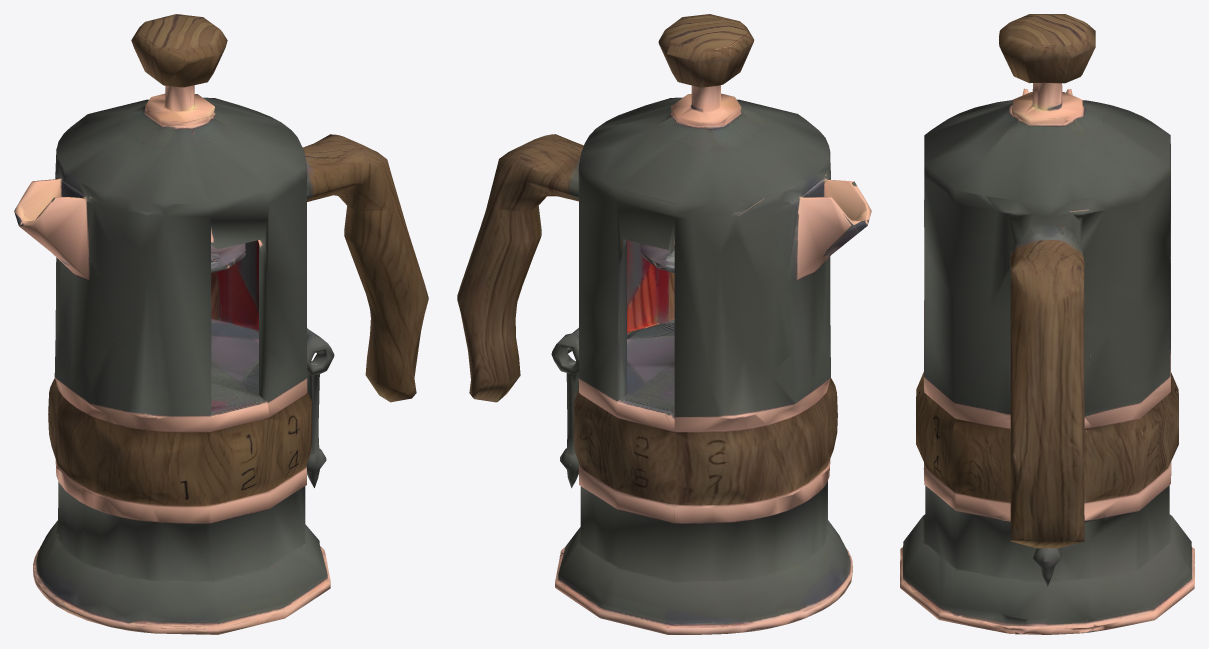
File: french_press.glb
3 views of the same model, side by side, from view 1: azimuth 30°, elevation 25°; view 2: azimuth 150°, elevation 25°; view 3: azimuth 270°, elevation 25° (orthographic).
Parts seen in each view (by area): view 1: Mesh1.0; view 2: Mesh1.0; view 3: Mesh1.0.
Part boxes in pixels (x1,y1,x2,y2): Mesh1.0: [14, 14, 428, 634]; Mesh1.0: [457, 14, 871, 634]; Mesh1.0: [900, 14, 1194, 634].
Bounding box in the file's own units: 1.44 × 1.91 × 0.931.
Materials: 1 (1 with a texture image).
